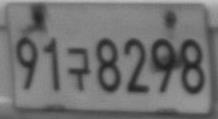1: (40, 36, 65, 92)
2: (122, 37, 149, 93)
8: (179, 37, 206, 94), (95, 37, 121, 92)
9: (150, 37, 175, 93), (14, 35, 38, 89)
구: (66, 46, 91, 90)
